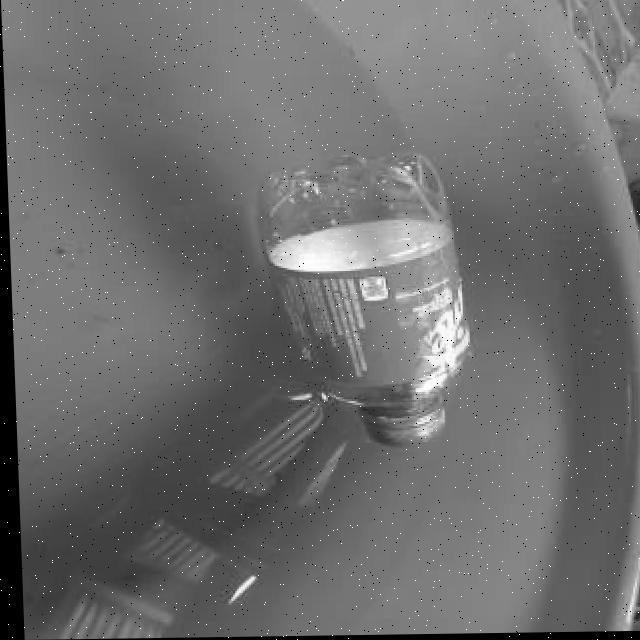bottle: (249, 149, 476, 451)
